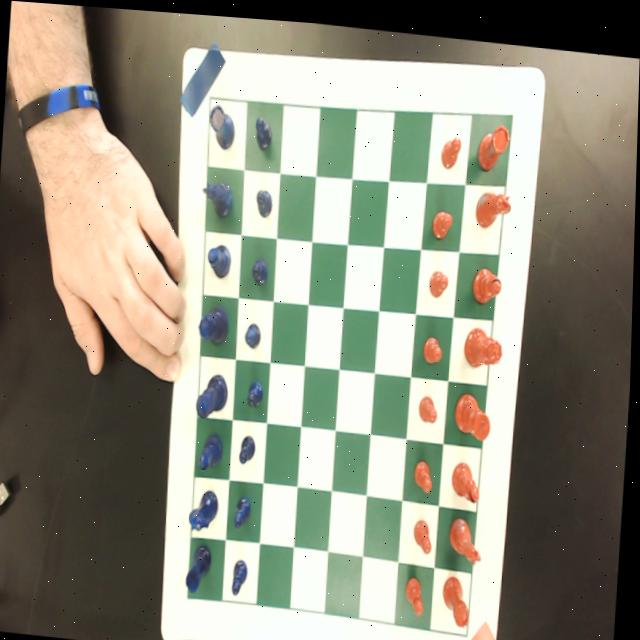B: (201, 426, 226, 469), (207, 239, 233, 277)
K: (198, 368, 231, 417)
N: (190, 484, 222, 531), (201, 174, 233, 216)
P: (254, 108, 274, 149), (236, 489, 255, 527), (234, 553, 251, 595), (254, 183, 275, 216), (240, 430, 260, 463), (251, 253, 271, 283), (245, 316, 264, 346), (248, 375, 266, 405)
Q: (200, 300, 231, 343)
R: (207, 100, 236, 149), (189, 540, 216, 590)
b: (472, 255, 503, 298), (453, 453, 483, 496)
k: (456, 385, 495, 434)
n: (450, 508, 487, 560), (475, 178, 512, 224)
p: (406, 568, 428, 611), (415, 511, 436, 550), (441, 127, 462, 164), (415, 451, 436, 487), (418, 387, 440, 418), (433, 202, 454, 234), (430, 262, 450, 293), (424, 328, 444, 358)
q: (465, 318, 505, 363)
r: (476, 113, 512, 166), (444, 568, 475, 622)
